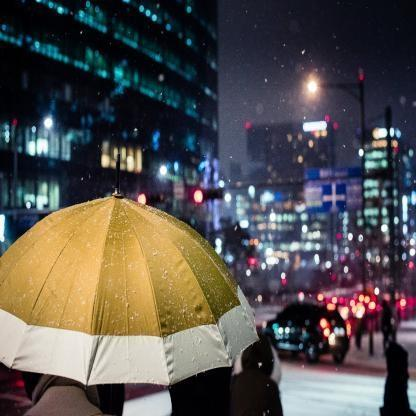Umbrella: (0, 145, 265, 391)
